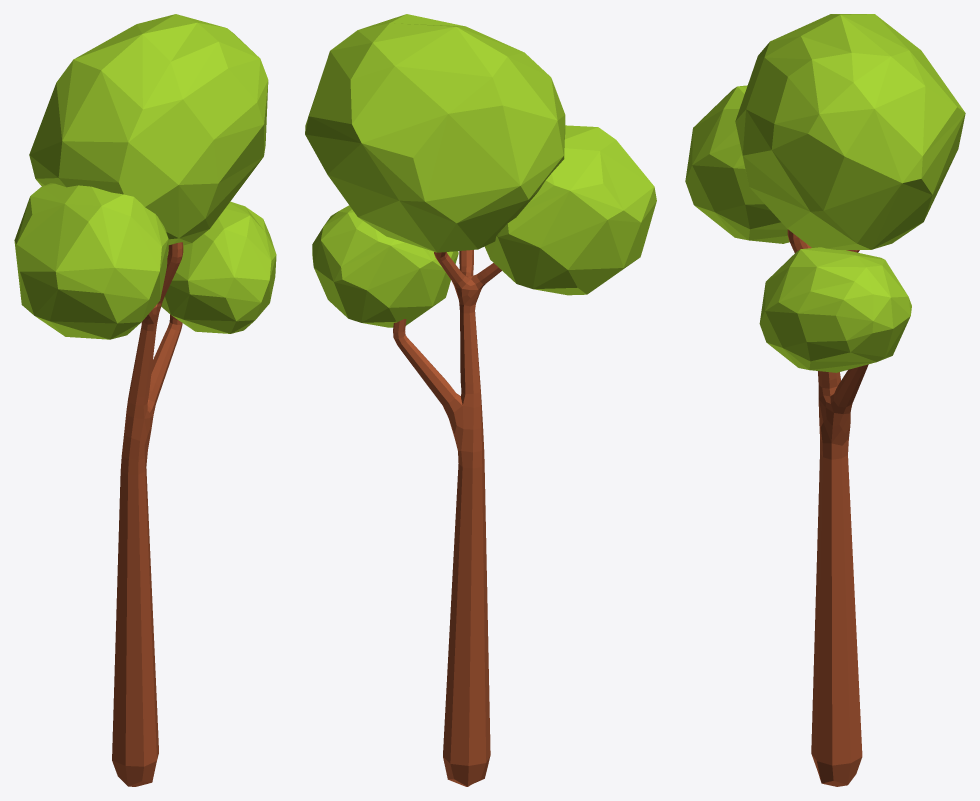
The model's file is Tree1.fbx.
3 views of the same model, side by side, from view 1: azimuth 30°, elevation 25°; view 2: azimuth 150°, elevation 25°; view 3: azimuth 270°, elevation 25° (orthographic). The views are drawn at different scales.
Parts seen in each view (by area): view 1: Leafes, Trunk; view 2: Leafes, Trunk; view 3: Leafes, Trunk.
Boxes of the visible parts, box(x1,y1,x2,y2) form: Leafes: box(14, 14, 276, 339); Trunk: box(112, 242, 183, 786); Leafes: box(305, 14, 656, 327); Trunk: box(393, 250, 501, 786); Leafes: box(685, 14, 965, 372); Trunk: box(787, 229, 868, 786).
Bounding box in the file's own units: 424 × 1080 × 354.
